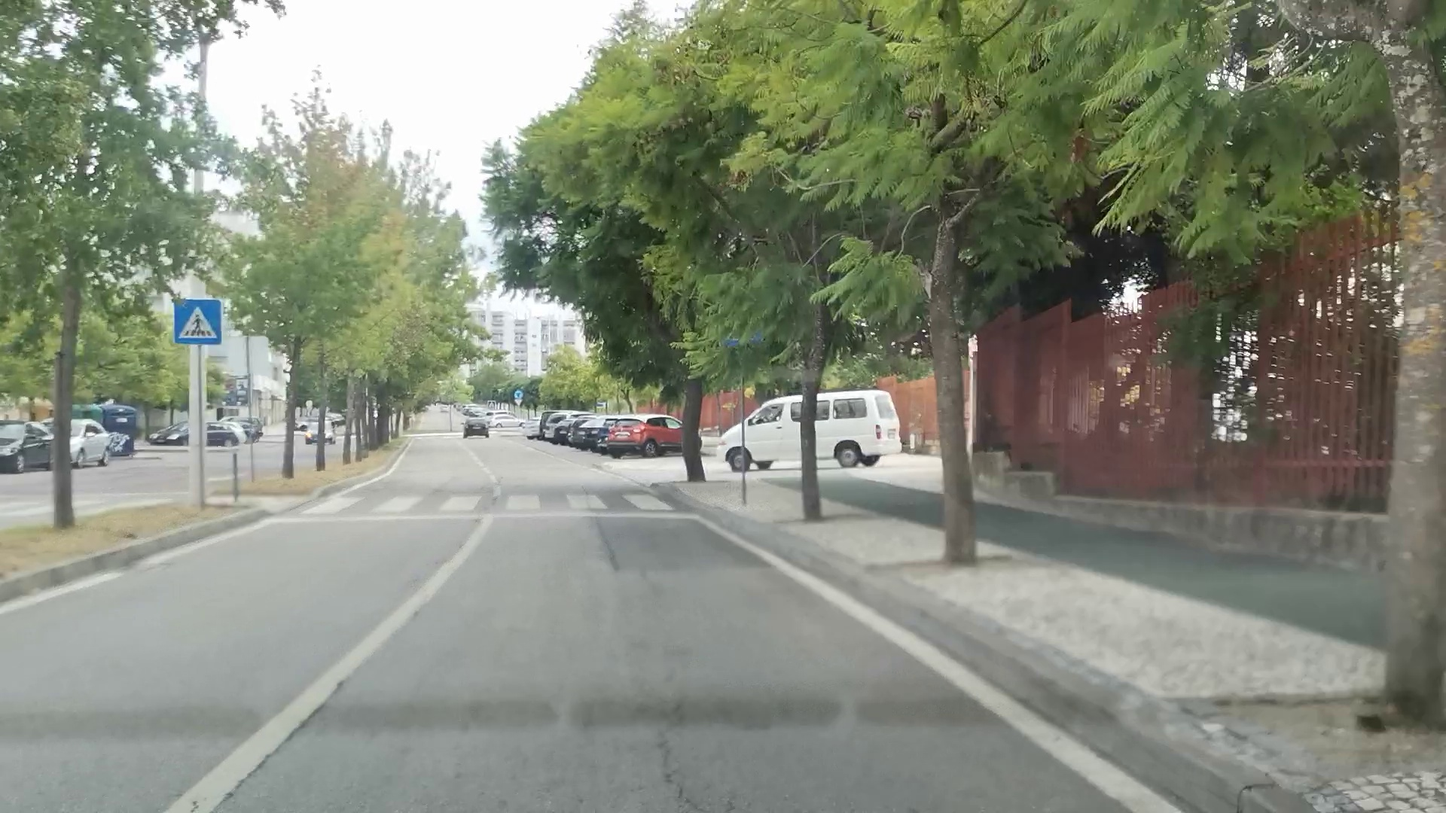Stairs: (303, 496, 675, 516)
